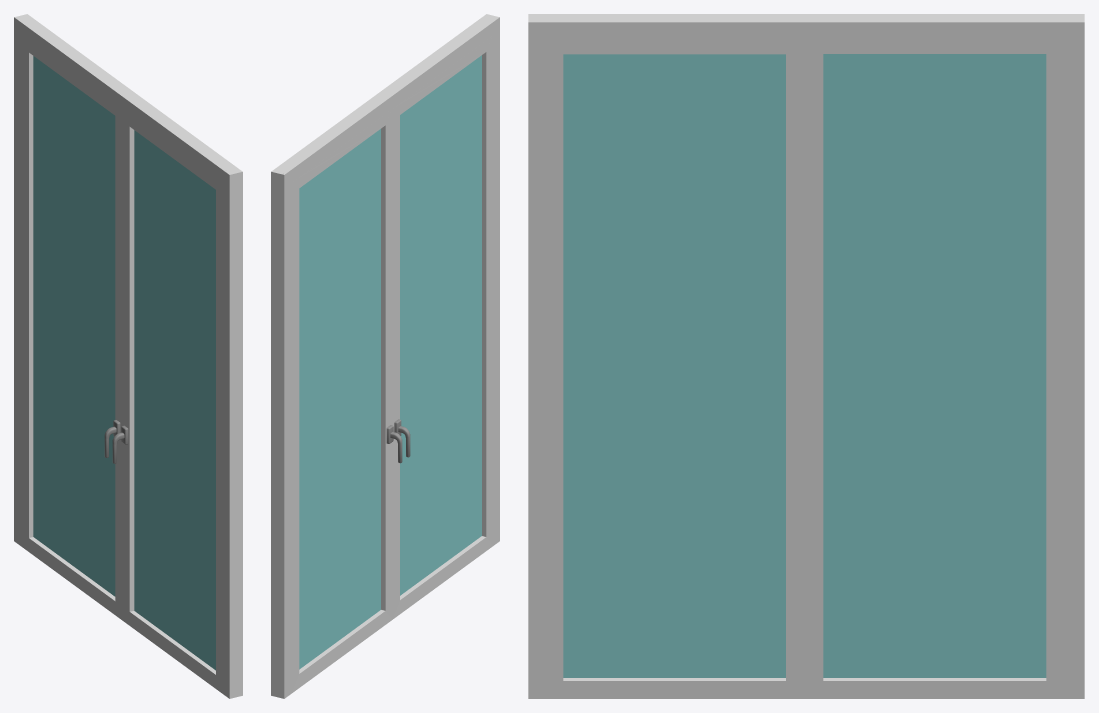
File: FrontDoor2.fbx
3 views of the same model, side by side, from view 1: azimuth 30°, elevation 25°; view 2: azimuth 150°, elevation 25°; view 3: azimuth 270°, elevation 25° (orthographic). The views are drawn at different scales.
Parts seen in each view (by area): view 1: Box018, Box019, GlassFrontDoor004, GlassFrontDoor003, Right, FrontDoorTop, Left; view 2: Box018, Box019, GlassFrontDoor003, GlassFrontDoor004, Left, FrontDoorTop, Right; view 3: Box018, Box019, GlassFrontDoor004, GlassFrontDoor003, FrontDoorTop, Left, Right.
Part boxes in pixels (<box>): Box018: <box>33,56,115,596</box>; Box019: <box>134,130,215,670</box>; GlassFrontDoor004: <box>122,110,223,693</box>; GlassFrontDoor003: <box>21,35,122,620</box>; Right: <box>222,167,242,698</box>; FrontDoorTop: <box>15,15,236,183</box>; Left: <box>14,14,28,545</box>; Box018: <box>299,129,380,669</box>; Box019: <box>400,55,481,595</box>; GlassFrontDoor003: <box>291,108,392,693</box>; GlassFrontDoor004: <box>393,35,493,618</box>; Left: <box>271,170,291,698</box>; FrontDoorTop: <box>272,18,494,181</box>; Right: <box>481,14,499,545</box>; Box018: <box>823,54,1046,677</box>; Box019: <box>563,54,785,677</box>; GlassFrontDoor004: <box>544,38,806,698</box>; GlassFrontDoor003: <box>805,38,1067,698</box>; FrontDoorTop: <box>542,14,1081,38</box>; Left: <box>1067,14,1084,698</box>; Right: <box>528,14,546,698</box>.
Bounding box in the file's own units: 5.86 × 110 × 81.83.
